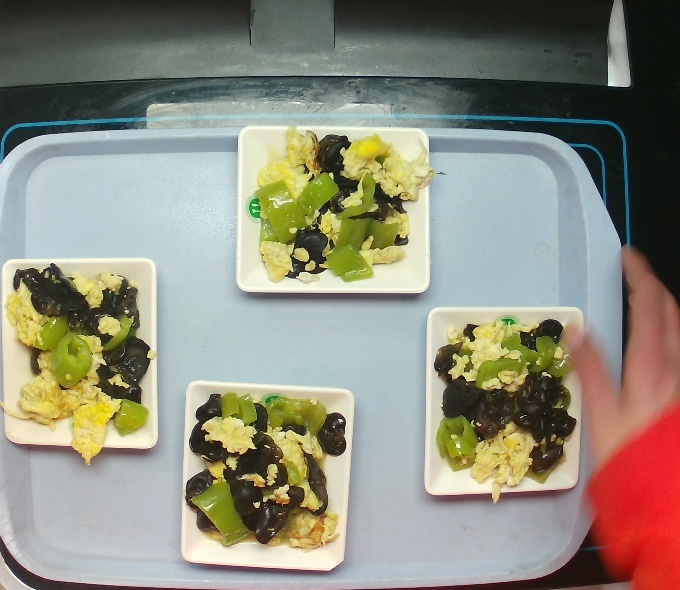wcq-MuErDanHuang: (186, 388, 352, 554), (255, 124, 420, 291), (10, 262, 152, 456), (430, 318, 583, 486)
